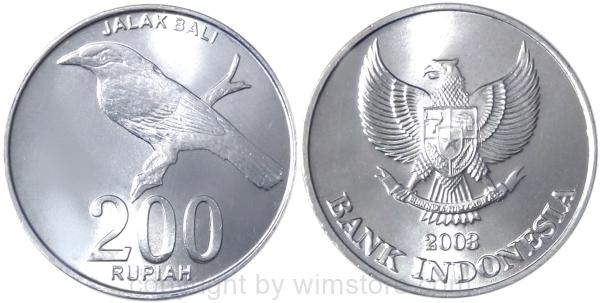coin_200_e2003: (5, 3, 297, 300), (307, 3, 597, 298)
